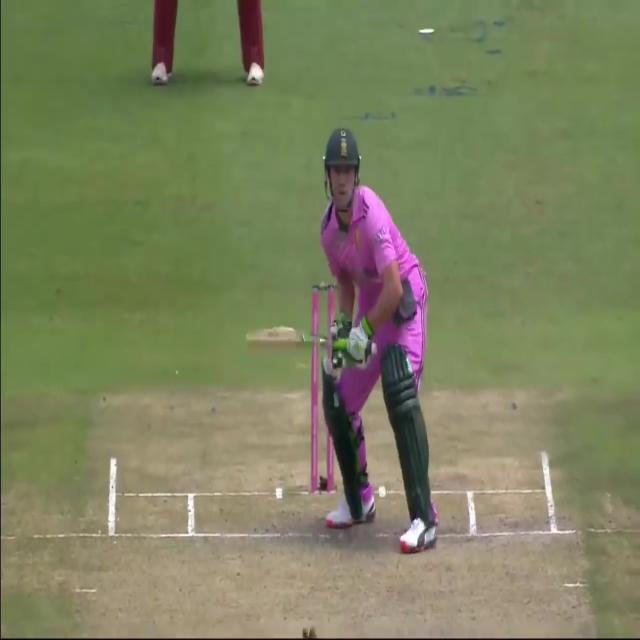Ball: (297, 124, 441, 548)
Fielder: (137, 0, 277, 88)
